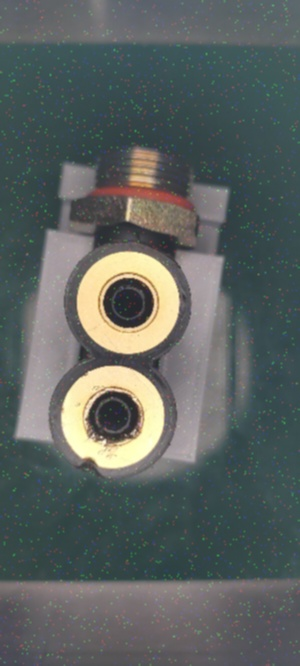bump: (72, 447, 109, 484)
craze: (132, 230, 143, 245)
